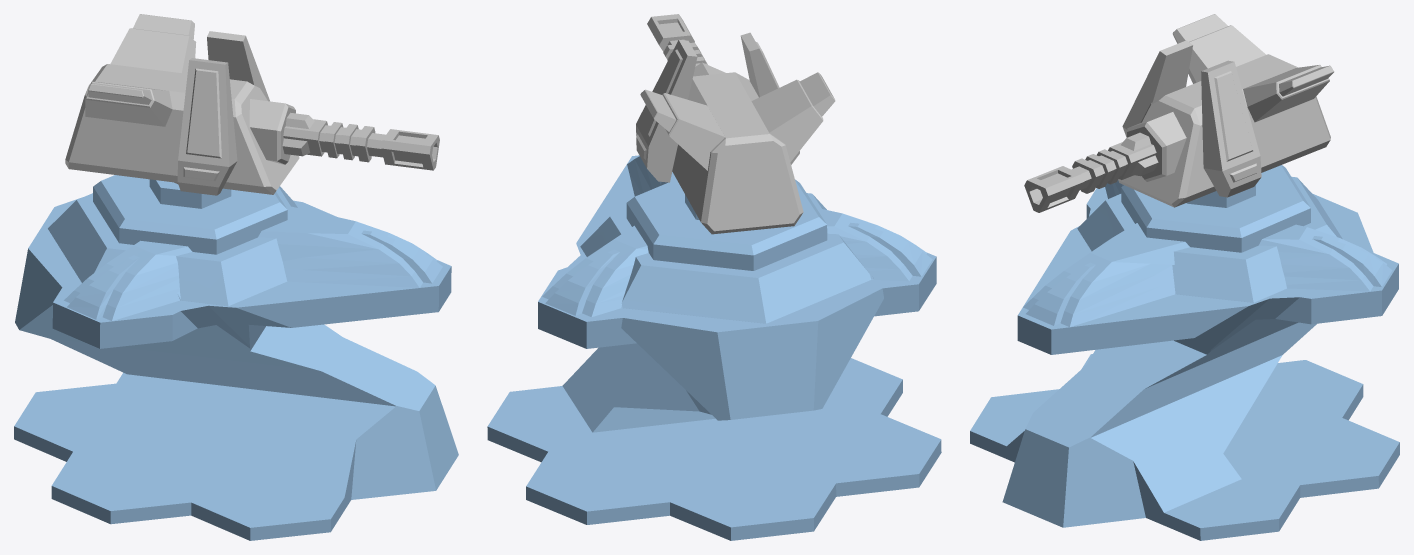
File: SM_bld_NEWturrel.fbx
3 renders of one model, left to right at view 1: azimuth 30°, elevation 25°; view 2: azimuth 150°, elevation 25°; view 3: azimuth 270°, elevation 25°, orthographic. The views are drawn at different scales.
Visible parts, largest first — view 1: TurretMount, top-turrel, cannon, gun-brake; view 2: TurretMount, top-turrel, cannon; view 3: TurretMount, top-turrel, cannon, gun-brake.
Part boxes in pixels (x1=…): TurretMount: x1=14, y1=175, x2=458, y2=540; top-turrel: x1=65, y1=14, x2=299, y2=195; cannon: x1=282, y1=112, x2=439, y2=170; gun-brake: x1=249, y1=99, x2=295, y2=164; TurretMount: x1=487, y1=155, x2=941, y2=540; top-turrel: x1=636, y1=32, x2=835, y2=234; cannon: x1=647, y1=14, x2=707, y2=66; TurretMount: x1=970, y1=165, x2=1399, y2=540; top-turrel: x1=1118, y1=14, x2=1334, y2=207; cannon: x1=1024, y1=132, x2=1158, y2=212; gun-brake: x1=1127, y1=112, x2=1186, y2=181.
Bounding box in the file's own units: 543 × 543 × 543.
